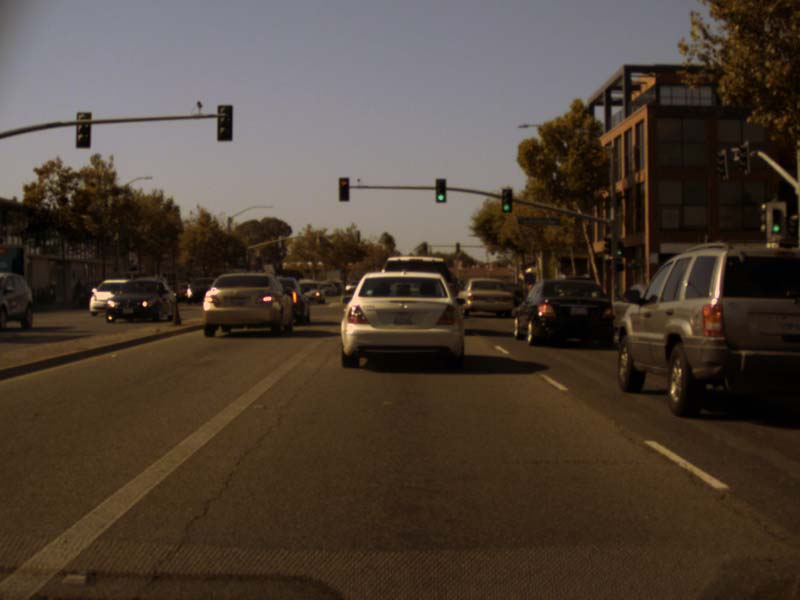Green: (766, 200, 785, 241), (435, 178, 446, 202), (502, 189, 512, 212), (616, 239, 623, 256)
Red: (338, 176, 349, 201)
